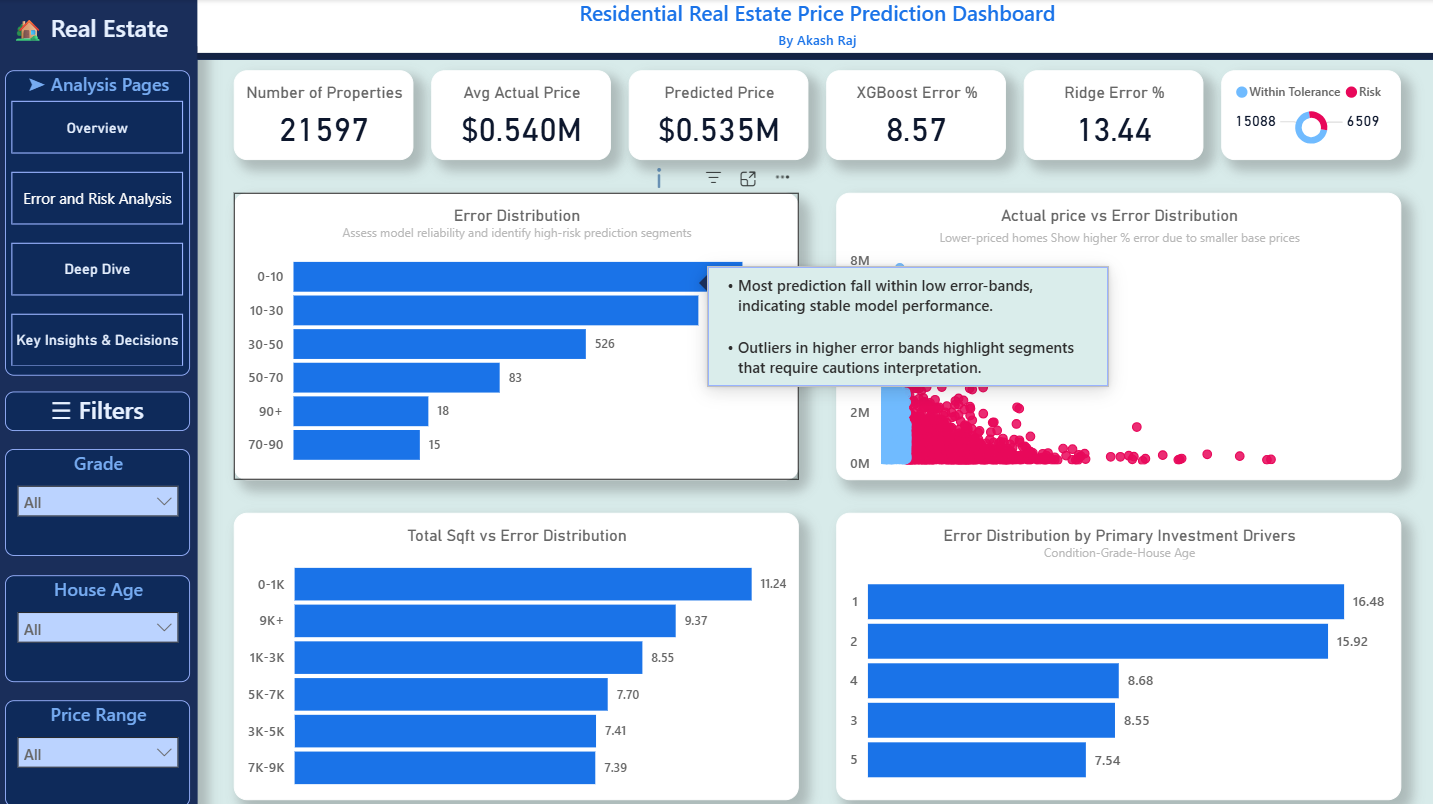

This screenshot's page, from the dashboard's own definition file:
{"tool":"tableau","page":{"name":"Error Analysis & Model Risk","canvas":[1000,1000],"units":"permille","ordinal":0},"visuals":[{"type":"worksheet","title":"Back 2","mark":"Automatic","box":[0,0,1000,1000]},{"type":"text","box":[47.4,27.8,902.3,47.2]},{"type":"dashboard-object","box":[54.1,33.3,111.3,38.9]},{"type":"filter","title":"Error % vs Price","param":"[federated.0pb6tqq0hun84y1cwjt1z028dbxy].[none:actual_price:qk]","box":[674.4,175,91,98.6]},{"type":"filter","title":"KPI Tiles","param":"[federated.0pb6tqq0hun84y1cwjt1z028dbxy].[none:grade:qk]","box":[766.9,175,91,98.6]},{"type":"filter","title":"KPI Tiles","param":"[federated.0pb6tqq0hun84y1cwjt1z028dbxy].[none:house_age:qk]","box":[859.4,175,91,98.6]},{"type":"worksheet","title":"KPI Tiles","mark":"Automatic","box":[49.6,176.4,581.2,98.6]},{"type":"blank","box":[166.9,176.4,2.3,97.2]},{"type":"blank","box":[281.9,176.4,2.3,97.2]},{"type":"blank","box":[397,176.4,2.3,97.2]},{"type":"blank","box":[512,176.4,2.3,97.2]},{"type":"worksheet","title":"Ridge Error % Distribution","mark":"Automatic","rows":["Calculation_0602830477926402"],"cols":["id"],"box":[674.4,373.6,272.9,244.4]},{"type":"worksheet","title":"Ridge Coefficient Effect","mark":"Automatic","box":[47.4,376.4,130.8,526.4]},{"type":"worksheet","title":"Price Map","mark":"Multipolygon","rows":["lat"],"cols":["long"],"box":[218.8,376.4,206.8,526.4]},{"type":"worksheet","title":"Error % vs Price","mark":"Automatic","rows":["xgb_error_pct"],"cols":["actual_price"],"box":[427.8,376.4,206.8,526.4]},{"type":"legend","title":"Error % vs Price","param":"[federated.0pb6tqq0hun84y1cwjt1z028dbxy].[none:Calculation_0458520059084800:nk]","box":[518.8,387.5,111.3,69.4]},{"type":"worksheet","title":"XGBoost Error % Distribution","mark":"Bar","rows":["Calculation_0602830478553091"],"cols":["id"],"box":[674.4,665.3,272.9,244.4]},{"type":"legend","title":"Price Map","param":"[federated.0pb6tqq0hun84y1cwjt1z028dbxy].[none:grade:qk]","box":[317.3,811.1,105.3,86.1]}]}

Visuals, with their boxes on the dashboard's canvas, which has no fixed pixel size, in thousandths of its width and height (x1, y1, x2, y2). These are canvas units, not pixel positions in the 1433x804 screenshot, which may show the page scaled, cropped or inside an application window:
"Back 2" worksheet: bbox=[0, 0, 1000, 1000]
text: bbox=[47, 28, 950, 75]
dashboard-object: bbox=[54, 33, 165, 72]
"Error % vs Price" filter: bbox=[674, 175, 765, 274]
"KPI Tiles" filter: bbox=[767, 175, 858, 274]
"KPI Tiles" filter: bbox=[859, 175, 950, 274]
"KPI Tiles" worksheet: bbox=[50, 176, 631, 275]
blank: bbox=[167, 176, 169, 274]
blank: bbox=[282, 176, 284, 274]
blank: bbox=[397, 176, 399, 274]
blank: bbox=[512, 176, 514, 274]
"Ridge Error % Distribution" worksheet: bbox=[674, 374, 947, 618]
"Ridge Coefficient Effect" worksheet: bbox=[47, 376, 178, 903]
"Price Map" worksheet (Multipolygon marks): bbox=[219, 376, 426, 903]
"Error % vs Price" worksheet: bbox=[428, 376, 635, 903]
"Error % vs Price" legend: bbox=[519, 388, 630, 457]
"XGBoost Error % Distribution" worksheet (Bar marks): bbox=[674, 665, 947, 910]
"Price Map" legend: bbox=[317, 811, 423, 897]
